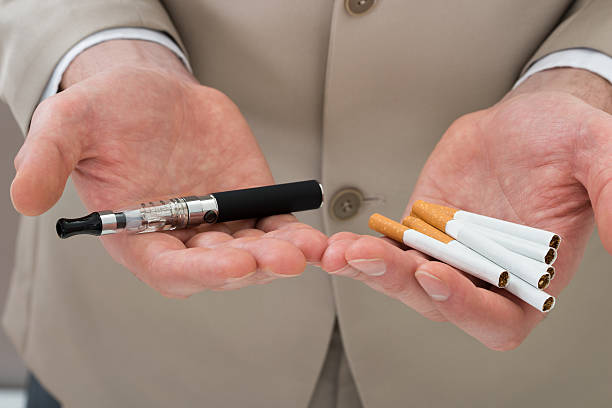cigarette: (54, 178, 326, 246), (402, 216, 556, 314), (411, 197, 551, 289), (366, 211, 510, 288), (429, 199, 562, 250), (455, 219, 558, 265), (514, 252, 558, 278)
